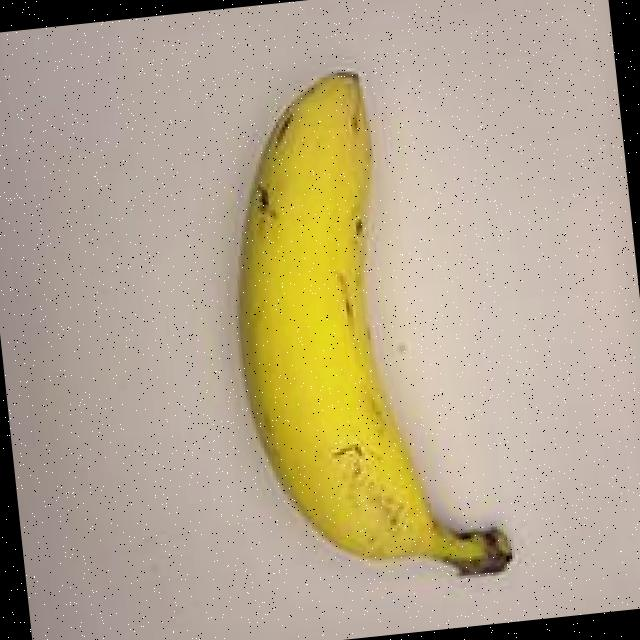Ripe: (180, 25, 535, 640)
